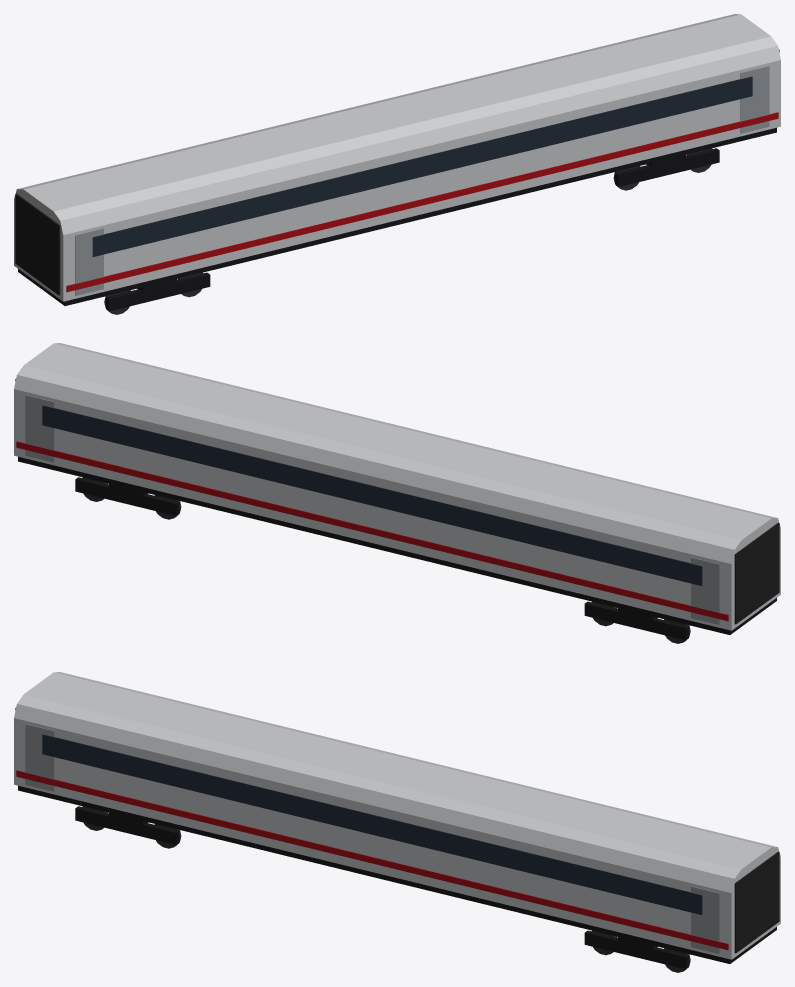
The model's file is hsr_coach.obj.
The picture shows the model from 3 angles, top to bottom: view 1: azimuth 30°, elevation 25°; view 2: azimuth 150°, elevation 25°; view 3: azimuth 330°, elevation 25°; orthographic projection.
Size of the model in its own units: 24.9 by 3.99 by 3.01.
